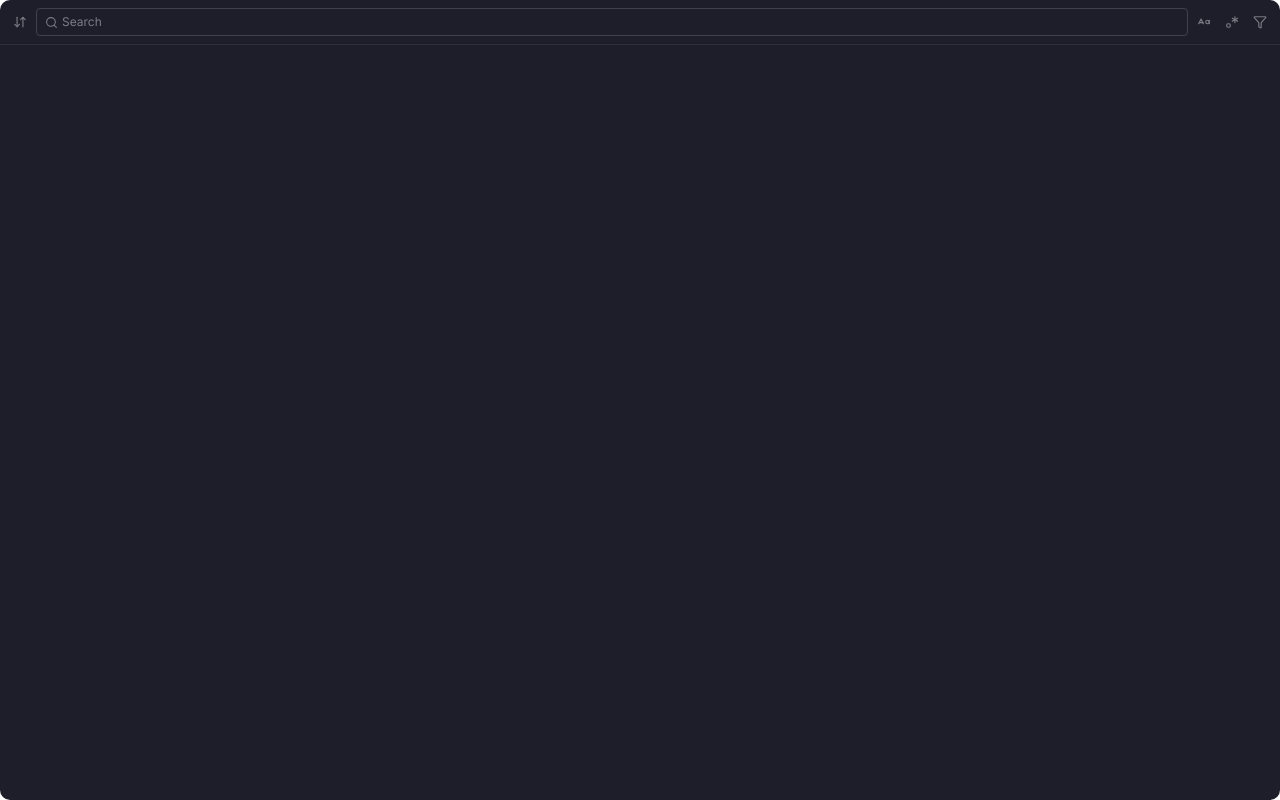
Test: SearchPanel › shows truncated warning when results are truncated
Type "hello" into the field with placeholder "Search" at (620, 22), box [62,14,1179,30]
Wait 300 ms
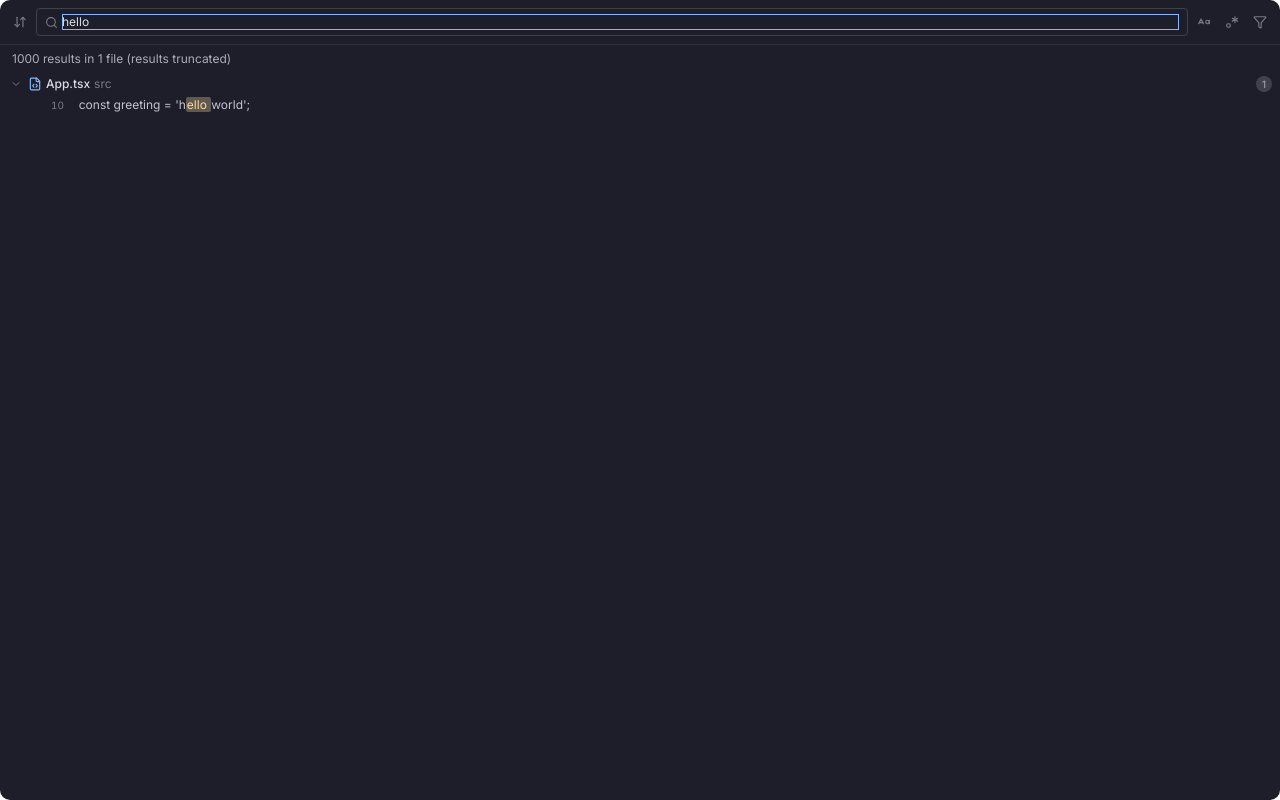
Now the text "1000 results in 1 file (results truncated)" is shown, box [12,51,231,66]
